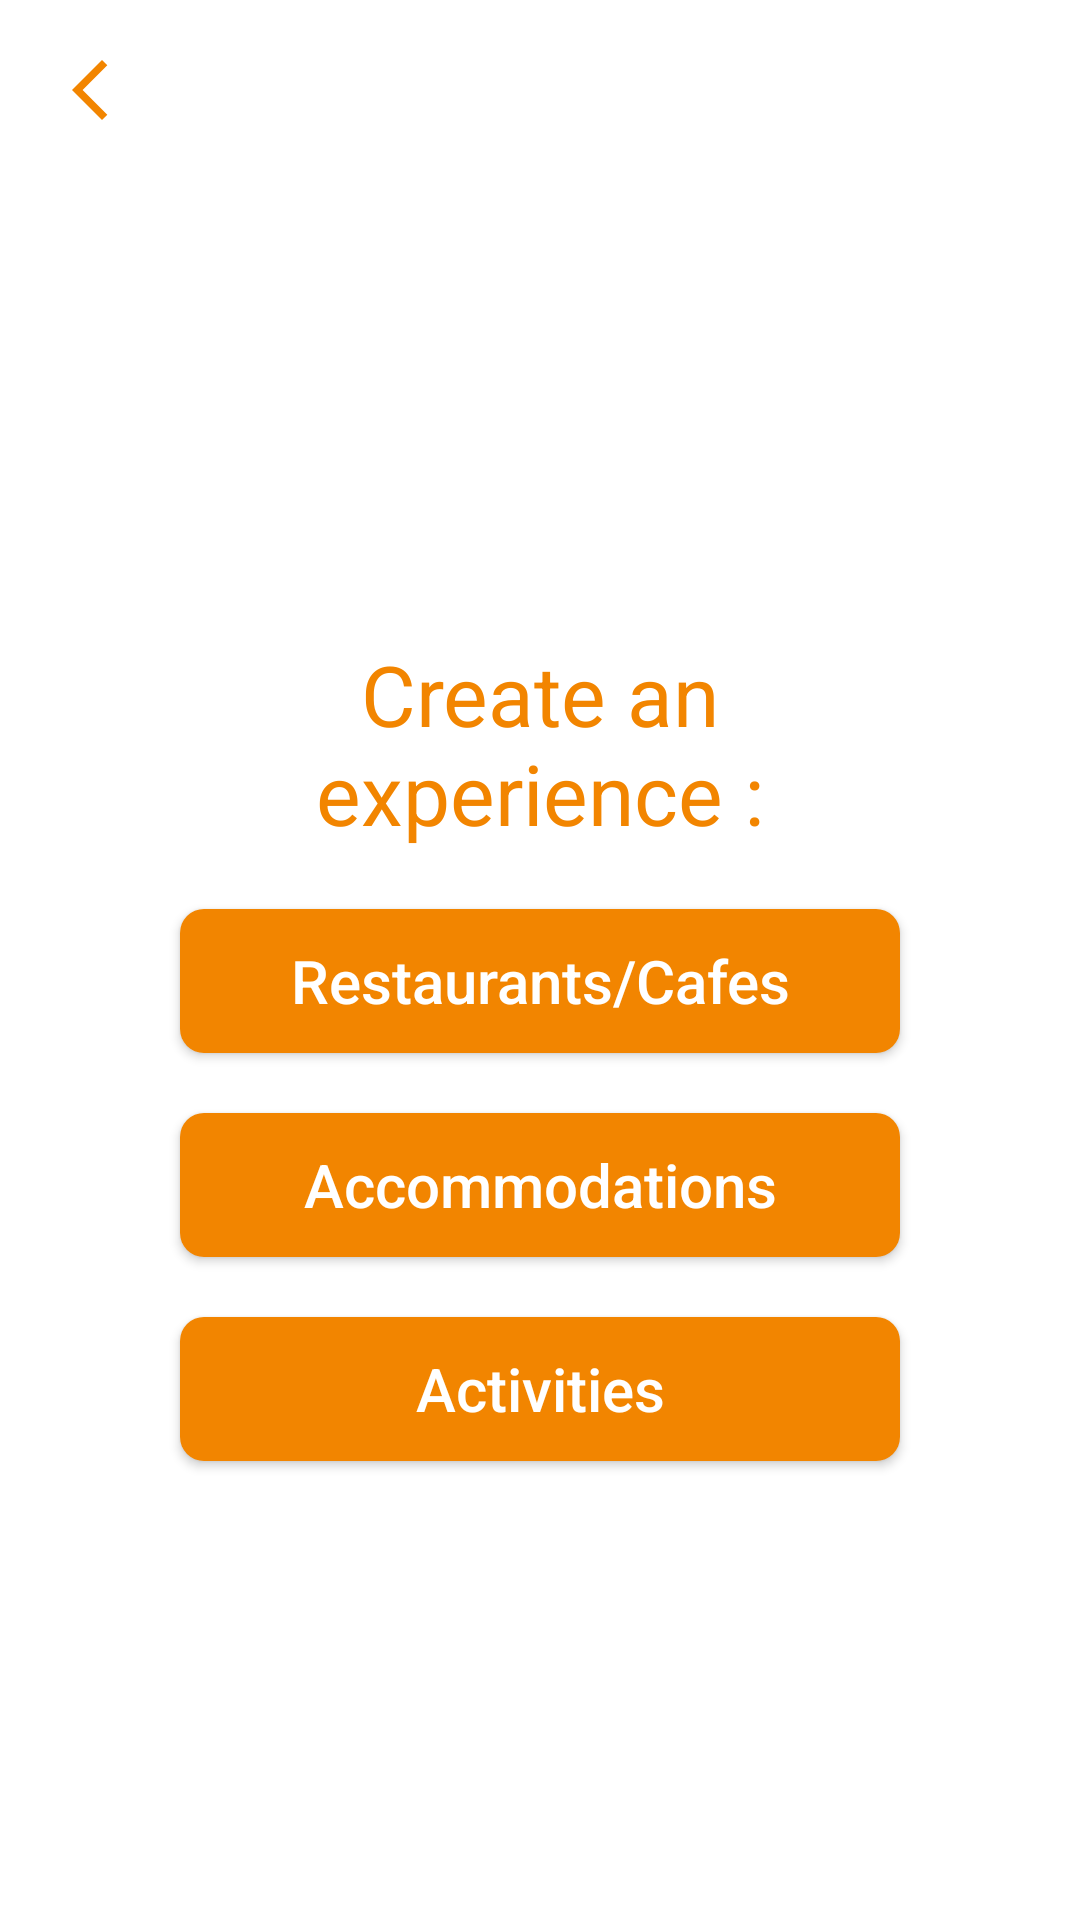

Icons on this 1080 × 1920 Android screen, each with the point to tap as point (x, y):
back: point (89, 90)
